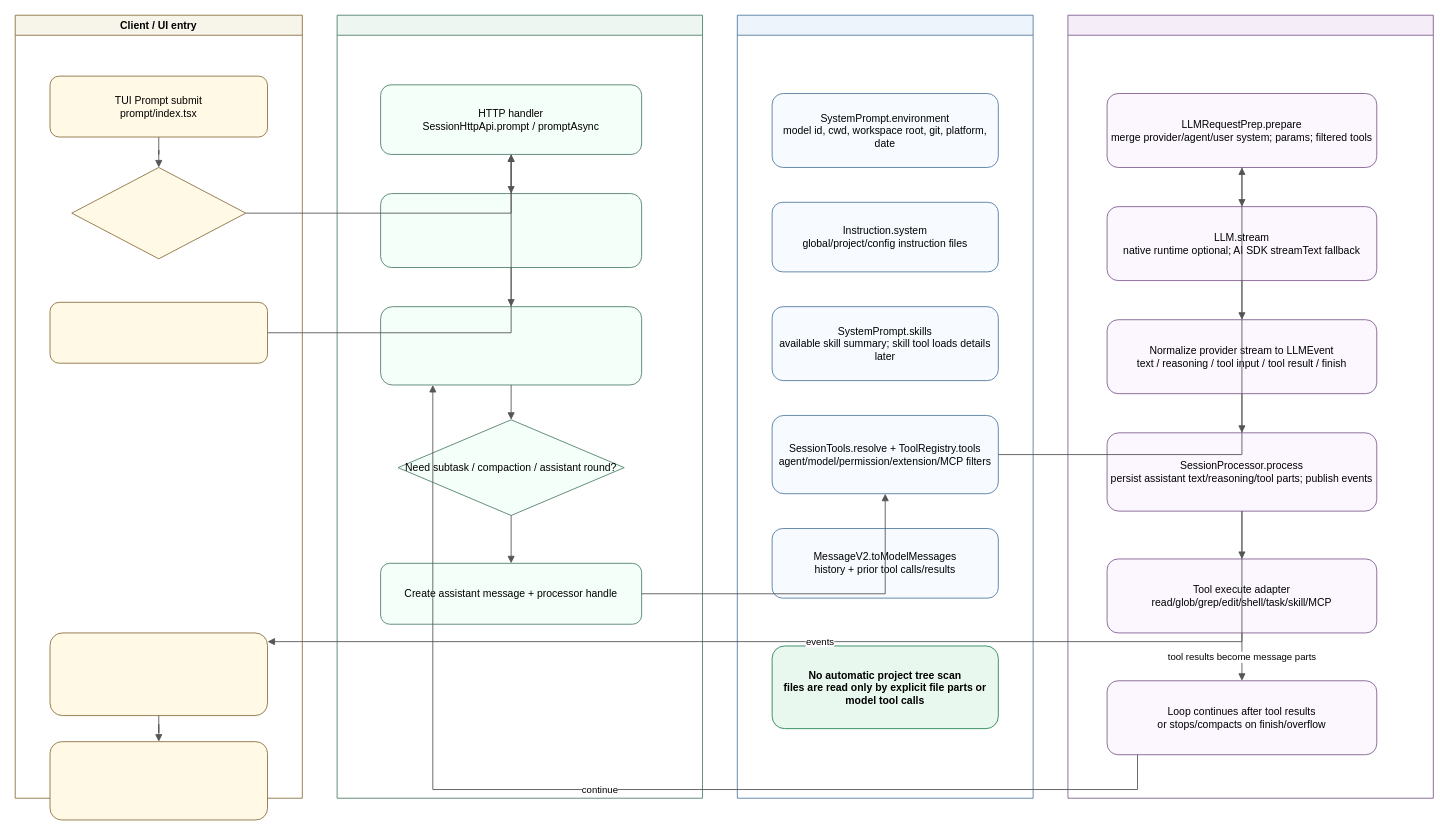
Image size: 1449x835. Some labels were removed from this diagram. Each missing label, with the box of its shape:
Branch input mode shell / slash command / normal prompt: (71, 167, 246, 259)
CLI run / stream transport run.ts, stream.transport.ts: (49, 301, 268, 363)
Context assembly: (736, 14, 1033, 798)
createUserMessage resolve text/file/agent parts; save user message: (380, 193, 642, 268)
HTTP API + Session Prompt: (336, 14, 703, 798)
LLM runtime + processor: (1067, 14, 1433, 798)
Session view renders assistant parts text / reasoning / tool / error / footer: (49, 741, 268, 820)
SessionPrompt.runLoop load compacted messages; find latest user/assistant/tasks: (380, 306, 642, 385)
TUI sync store updates message.updated / part.updated / delta: (49, 632, 268, 716)
